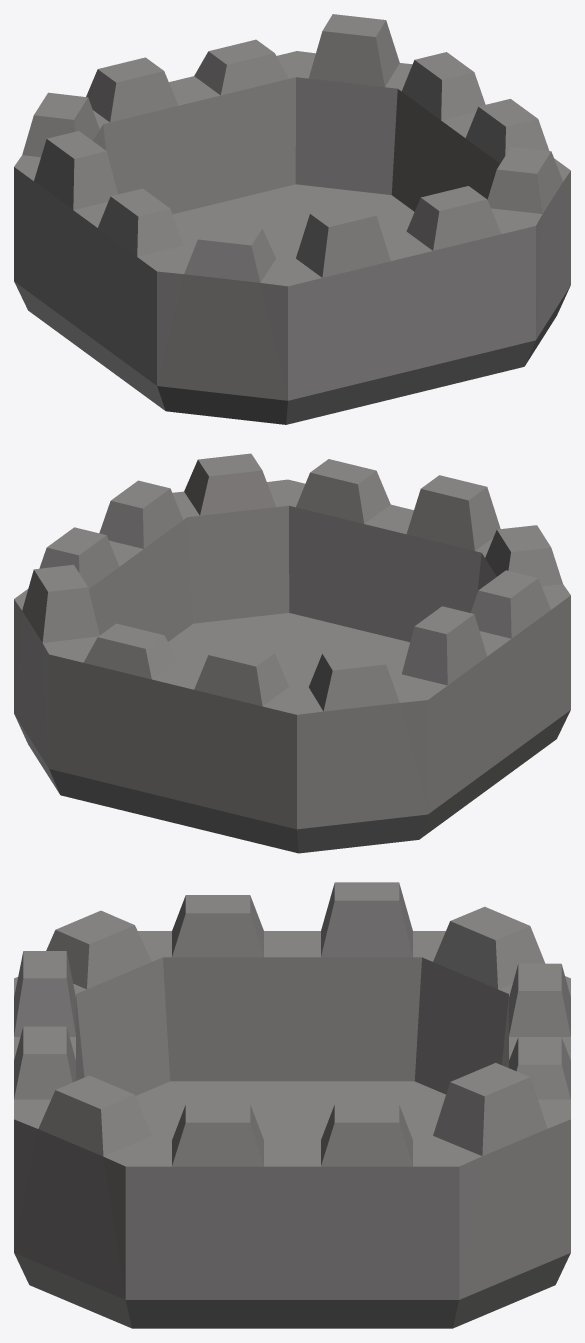
File: SM_Bld_Knights_Castle_04.glb
3 views of the same model, one above another, from view 1: azimuth 30°, elevation 25°; view 2: azimuth 150°, elevation 25°; view 3: azimuth 270°, elevation 25° (orthographic). The views are drawn at different scales.
Visible parts, largest first — view 1: SM_Bld_Knights_Castle_04; view 2: SM_Bld_Knights_Castle_04; view 3: SM_Bld_Knights_Castle_04.
Boxes of the visible parts, left/top/right/bottom form: SM_Bld_Knights_Castle_04: left=14, top=14, right=570, bottom=424; SM_Bld_Knights_Castle_04: left=14, top=453, right=570, bottom=853; SM_Bld_Knights_Castle_04: left=14, top=882, right=570, bottom=1328.
Size of the model in its own units: 0.8201 by 0.3705 by 0.8201.
1 material, 1 textured.
